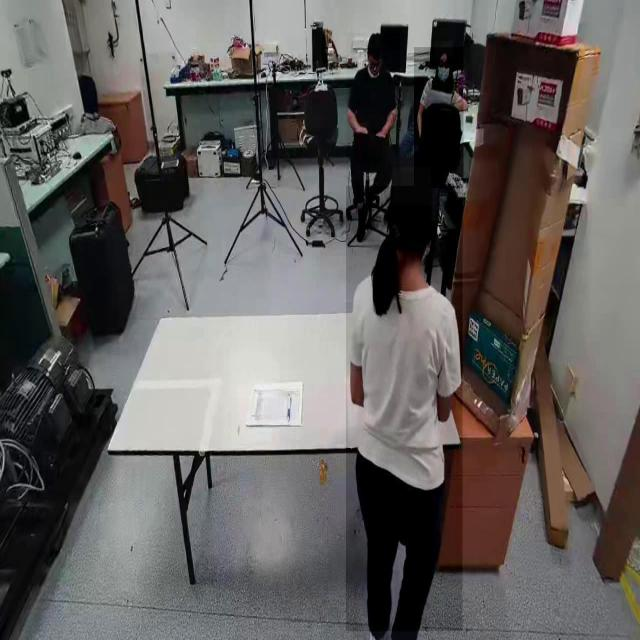face_mask: (436, 58, 453, 82)
hand_noglove: (354, 123, 368, 135), (374, 130, 386, 138)
head_nohelmet: (392, 167, 432, 205), (434, 41, 454, 59), (368, 32, 384, 49)
person: (346, 186, 463, 632), (346, 33, 401, 242), (414, 47, 464, 189)
